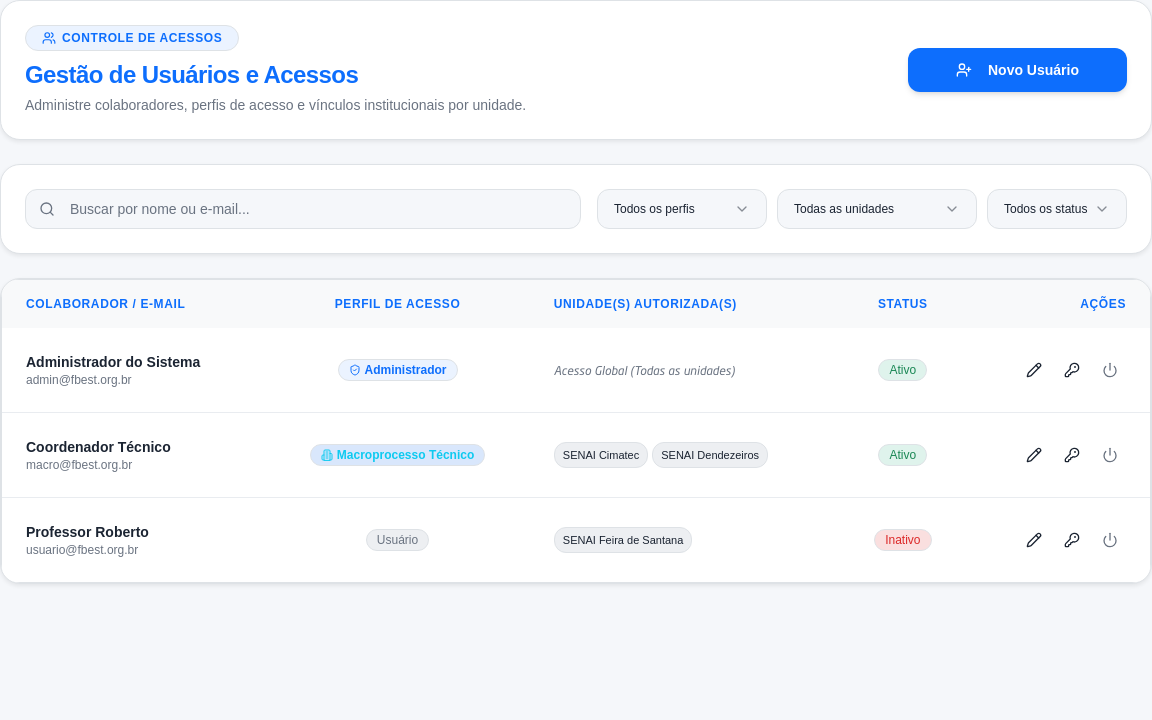
Scenario: PHASE 6.6 — Gestão de Usuários, Perfis e Acessos no Frontend › 7. Abre modal de alteração de senha ao clicar no botão 'Alterar Senha'
Check: the text "Administrador do Sistema" is shown, box left=26, top=354, right=200, bottom=370
Click the button titled "Alterar Senha": (1072, 370) left=1056, top=354, right=1088, bottom=386
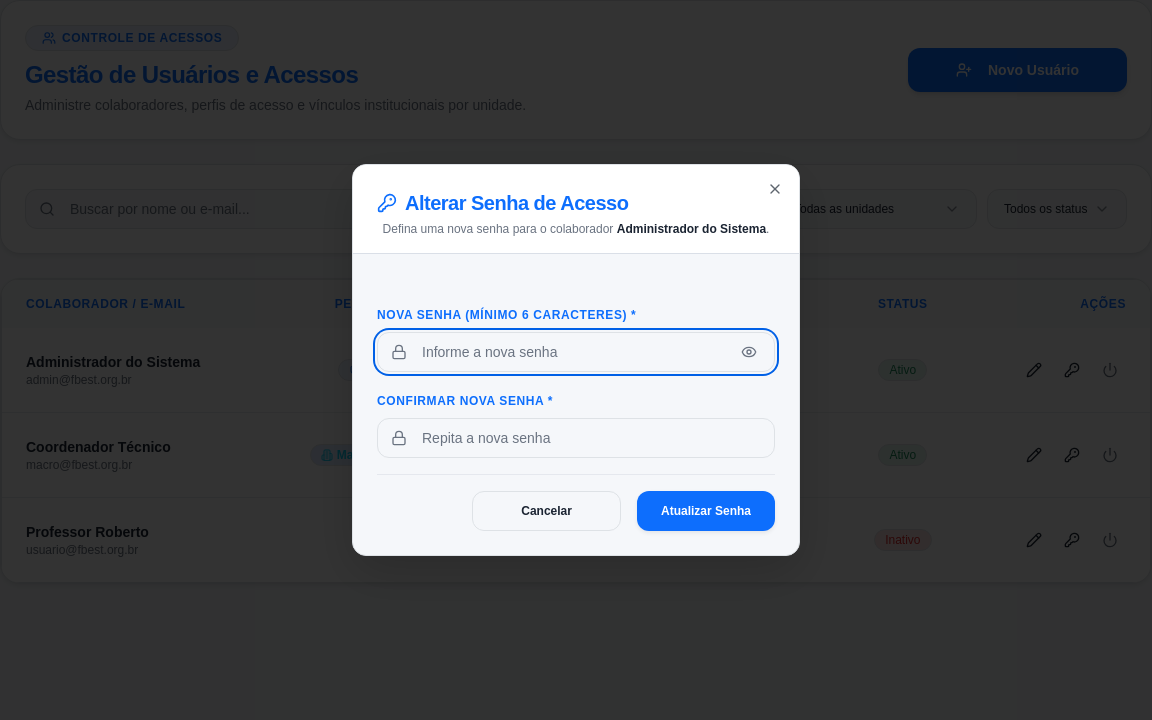
Check: the heading "Alterar Senha de Acesso" is shown, box left=377, top=192, right=628, bottom=214
